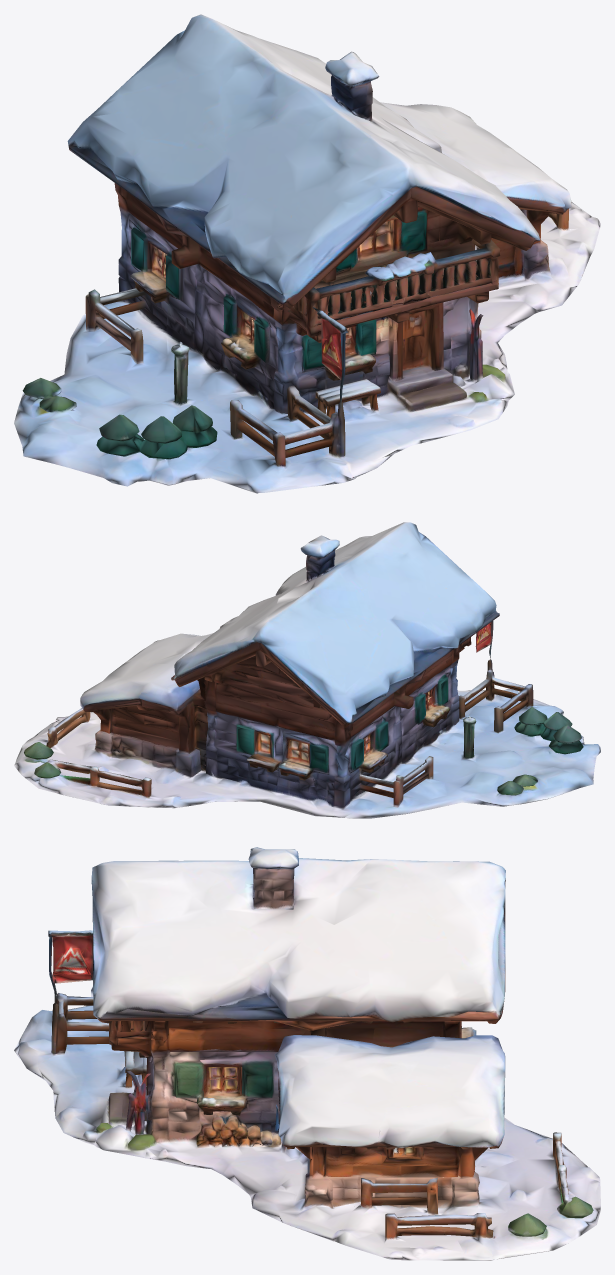
The model's file is chalet-alps.glb.
3 views of the same model, one above another, from view 1: azimuth 30°, elevation 25°; view 2: azimuth 150°, elevation 25°; view 3: azimuth 270°, elevation 25° (orthographic). The views are drawn at different scales.
Size of the model in its own units: 0.9797 by 0.4011 by 0.7892.
1 material, 1 textured.
